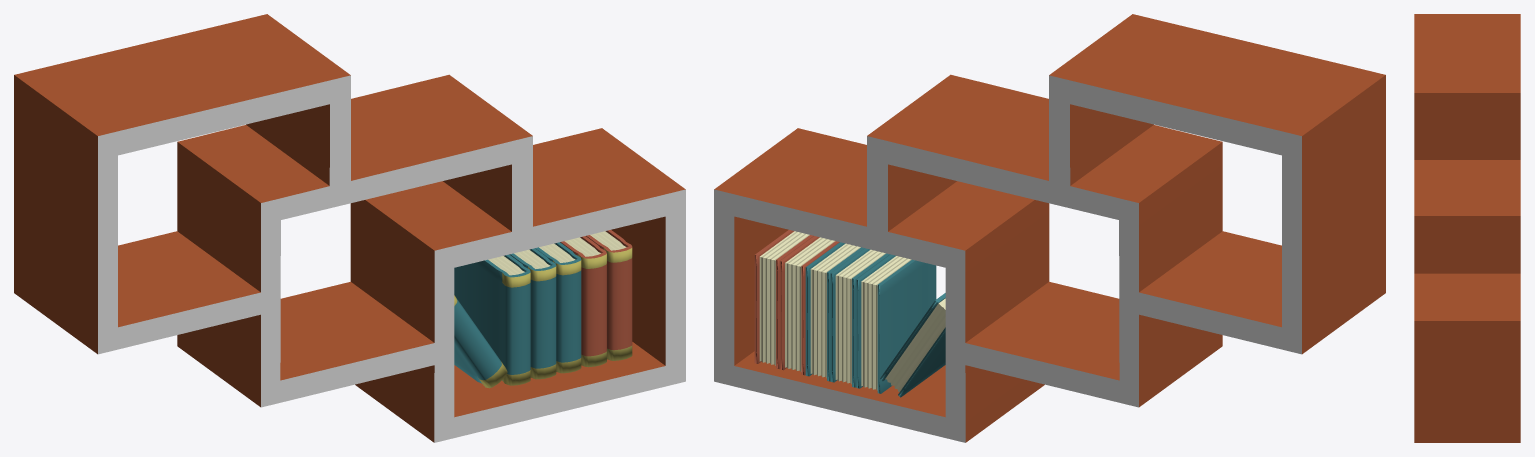
Rendered from shelves_tier10.fbx.
3 renders of one model, left to right at view 1: azimuth 30°, elevation 25°; view 2: azimuth 150°, elevation 25°; view 3: azimuth 270°, elevation 25°, orthographic. The views are drawn at different scales.
Parts seen in each view (by area): view 1: Cube.007, Cube.001, Cube.009, Cube.004, Cube.005, Cube.002, Cube.006; view 2: Cube.007, Cube.001, Cube.009, Cube.005, Cube.004, Cube.002, Cube.006; view 3: Cube.007.
Part boxes in pixels (bbox=[...]): Cube.007: bbox=[14, 14, 685, 442]; Cube.001: bbox=[454, 254, 530, 385]; Cube.009: bbox=[509, 248, 556, 379]; Cube.004: bbox=[560, 236, 606, 367]; Cube.005: bbox=[586, 230, 632, 360]; Cube.002: bbox=[535, 242, 581, 373]; Cube.006: bbox=[454, 295, 507, 388]; Cube.007: bbox=[714, 14, 1385, 442]; Cube.001: bbox=[856, 254, 936, 393]; Cube.009: bbox=[830, 248, 890, 387]; Cube.005: bbox=[754, 230, 813, 369]; Cube.004: bbox=[780, 236, 839, 375]; Cube.002: bbox=[805, 242, 864, 381]; Cube.006: bbox=[880, 293, 945, 397]; Cube.007: bbox=[1414, 14, 1520, 442].
Bounding box in the file's own units: 210 × 133 × 51.89.
